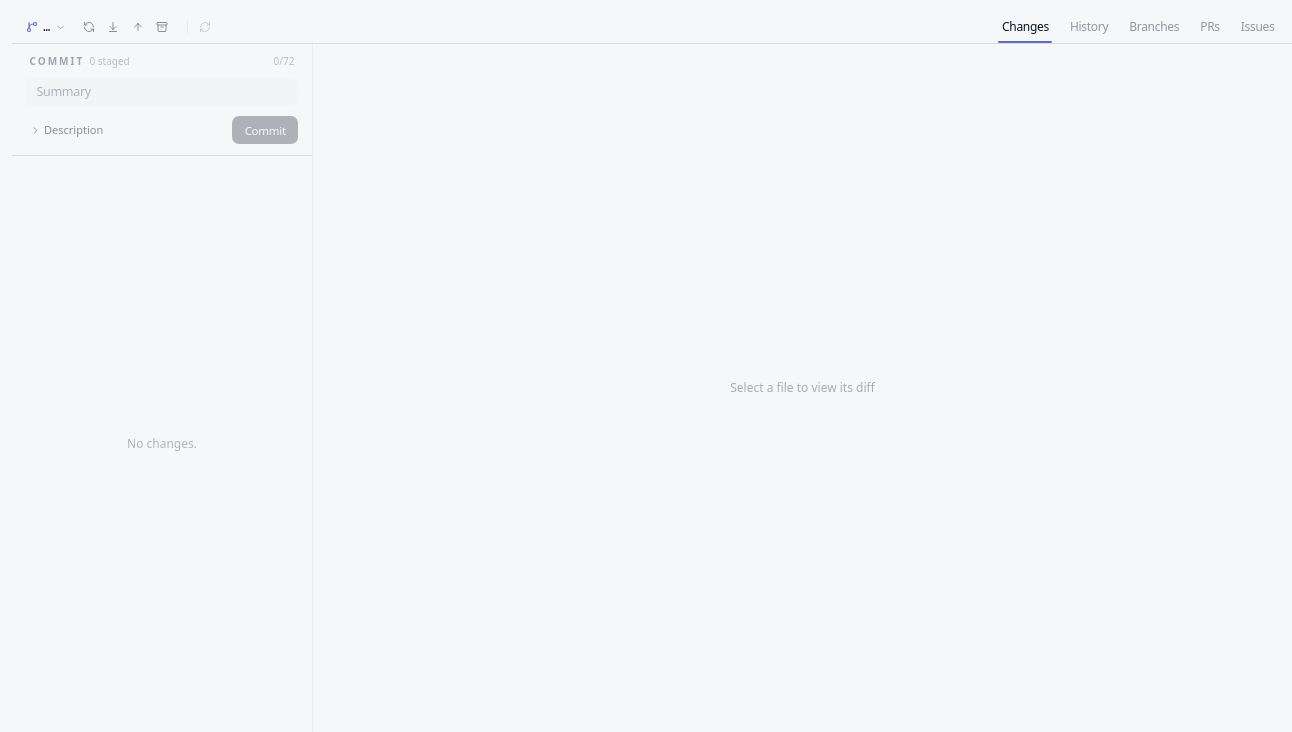
GitTab › switches to History tab when clicked
This screenshot has width=1292, height=732.
Click the button "History": (1089, 27) [1059,12,1119,43]
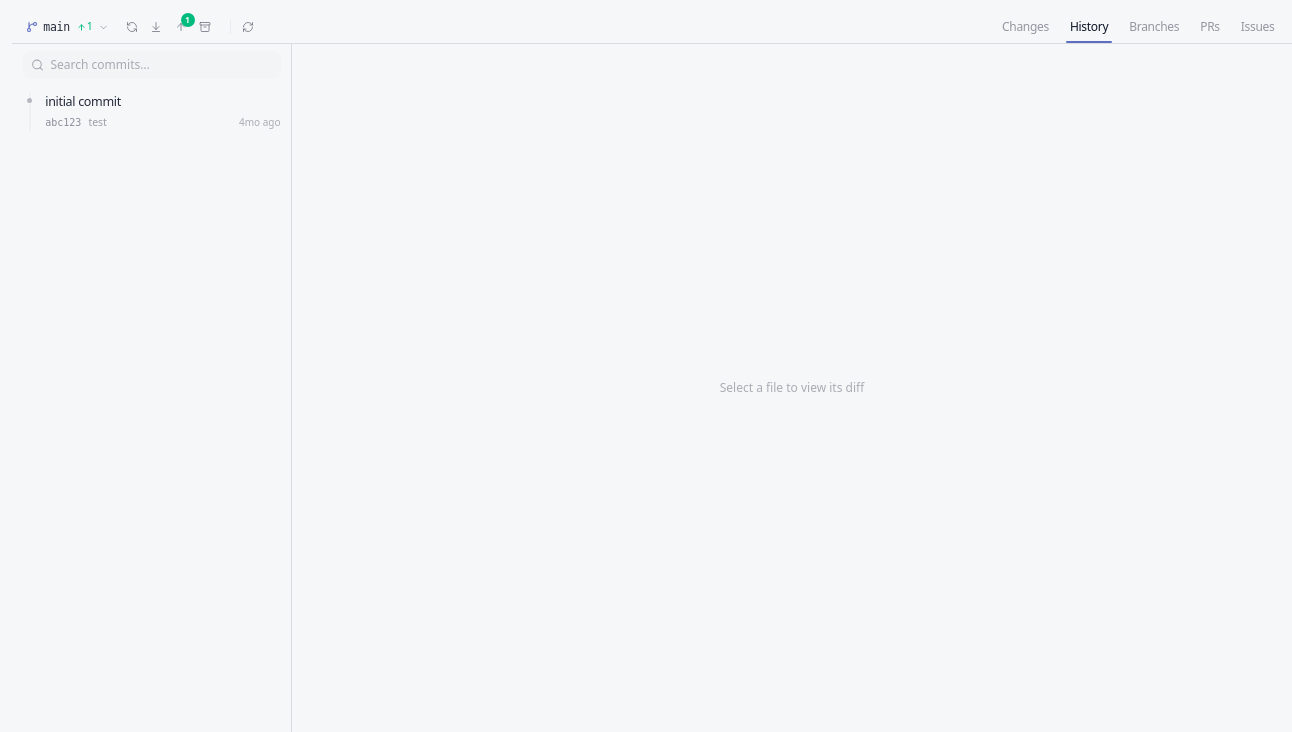
Now the text "initial commit" is shown, box [45,92,121,110]
Now the text "staged" is gone
